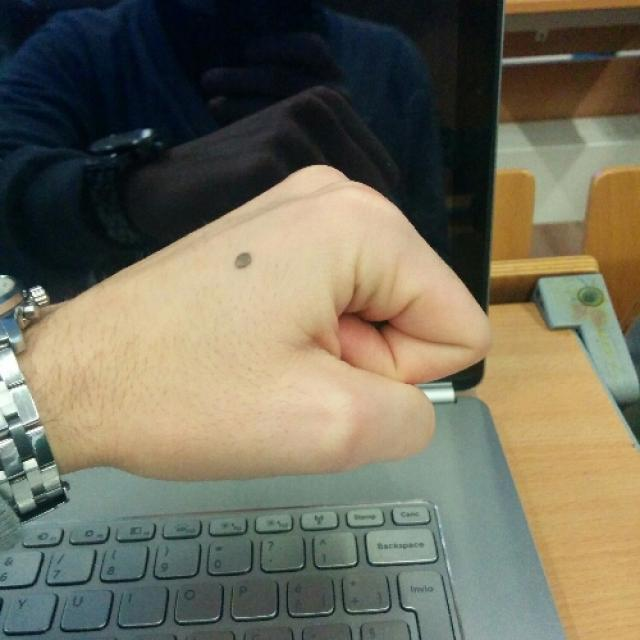fist: (62, 156, 510, 492)
